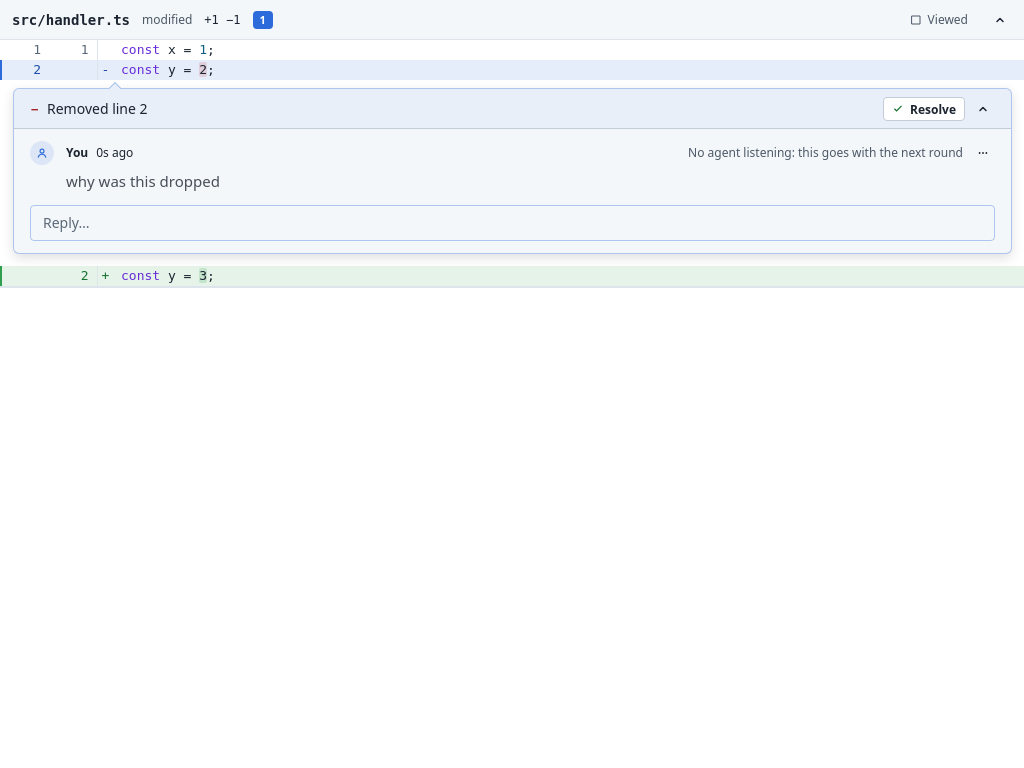
Test: editing a comment › keeps the removed wording when the comment is reopened for editing
The width and height of the screenshot is (1024, 768).
Click the button with test id "turn-menu".
click(983, 153)  # box left=971, top=141, right=995, bottom=165
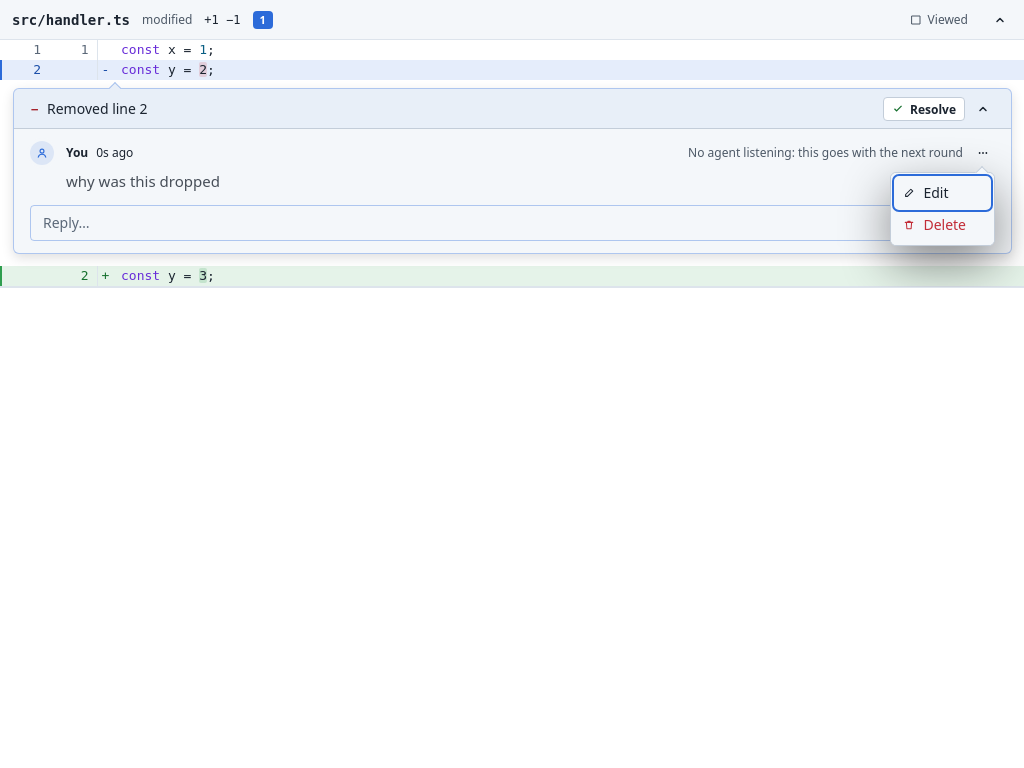
Click the button with test id "edit-turn".
click(943, 193)  # box left=895, top=177, right=990, bottom=209
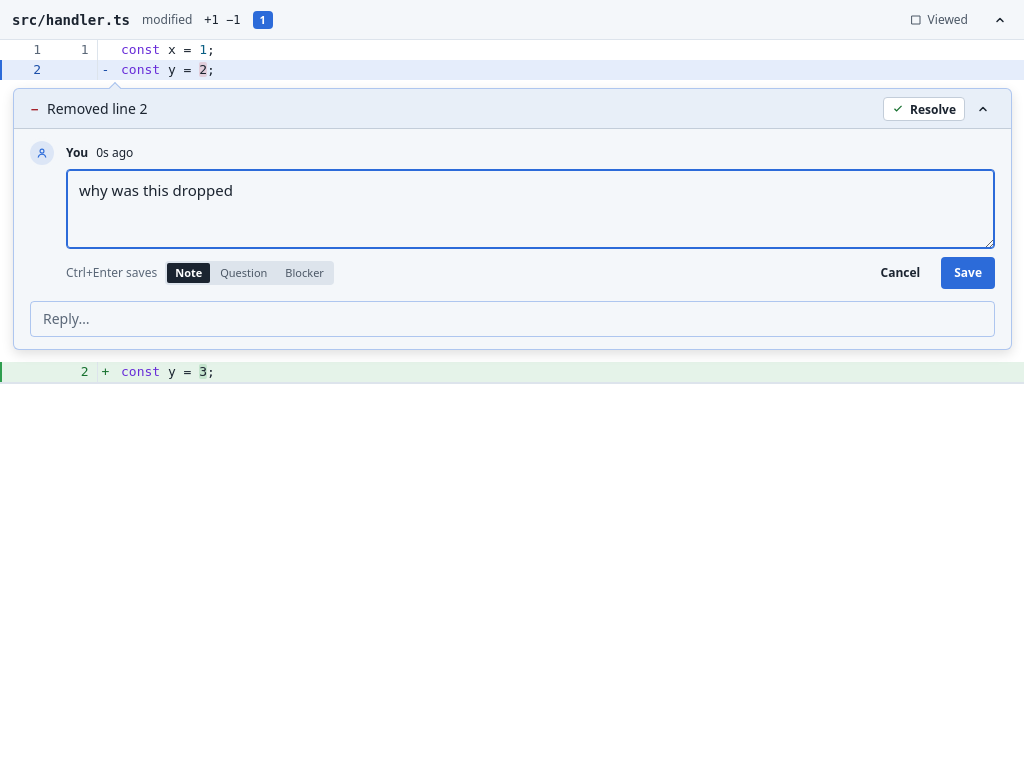
Expected: the text "Removed line 2" is shown, left=47, top=99, right=148, bottom=118
Expected: the text box with test id "comment-input" is shown, left=66, top=169, right=995, bottom=249
